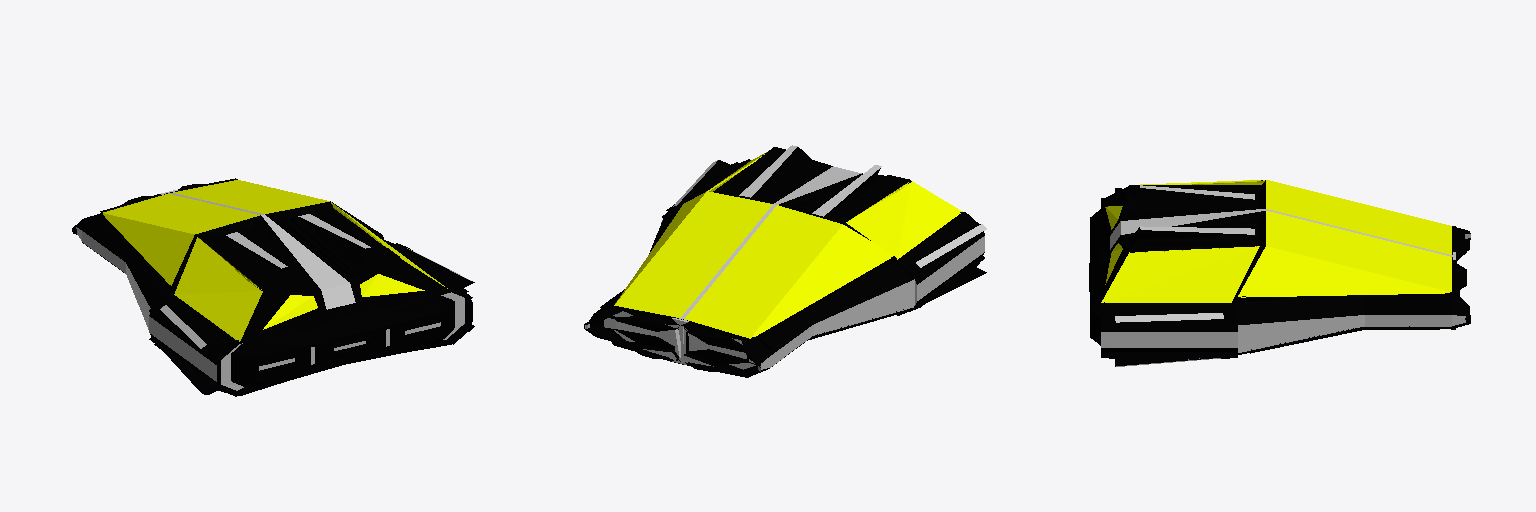
The model's file is tronOneYellow.obj.
3 renders of one model, left to right at view 1: azimuth 30°, elevation 25°; view 2: azimuth 150°, elevation 25°; view 3: azimuth 270°, elevation 25°, orthographic.
Visible parts, largest first — view 1: Voiture2_Cube.002; view 2: Voiture2_Cube.002; view 3: Voiture2_Cube.002.
Boxes of the visible parts, x1=… form: Voiture2_Cube.002: x1=72, y1=178, x2=474, y2=396; Voiture2_Cube.002: x1=584, y1=145, x2=986, y2=377; Voiture2_Cube.002: x1=1089, y1=180, x2=1470, y2=366.
Size of the model in its own units: 2.17 by 0.7502 by 2.62.